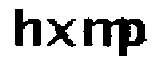h: (11, 5, 43, 52)
m: (80, 17, 125, 48)
p: (117, 15, 150, 60)
x: (45, 16, 78, 50)
